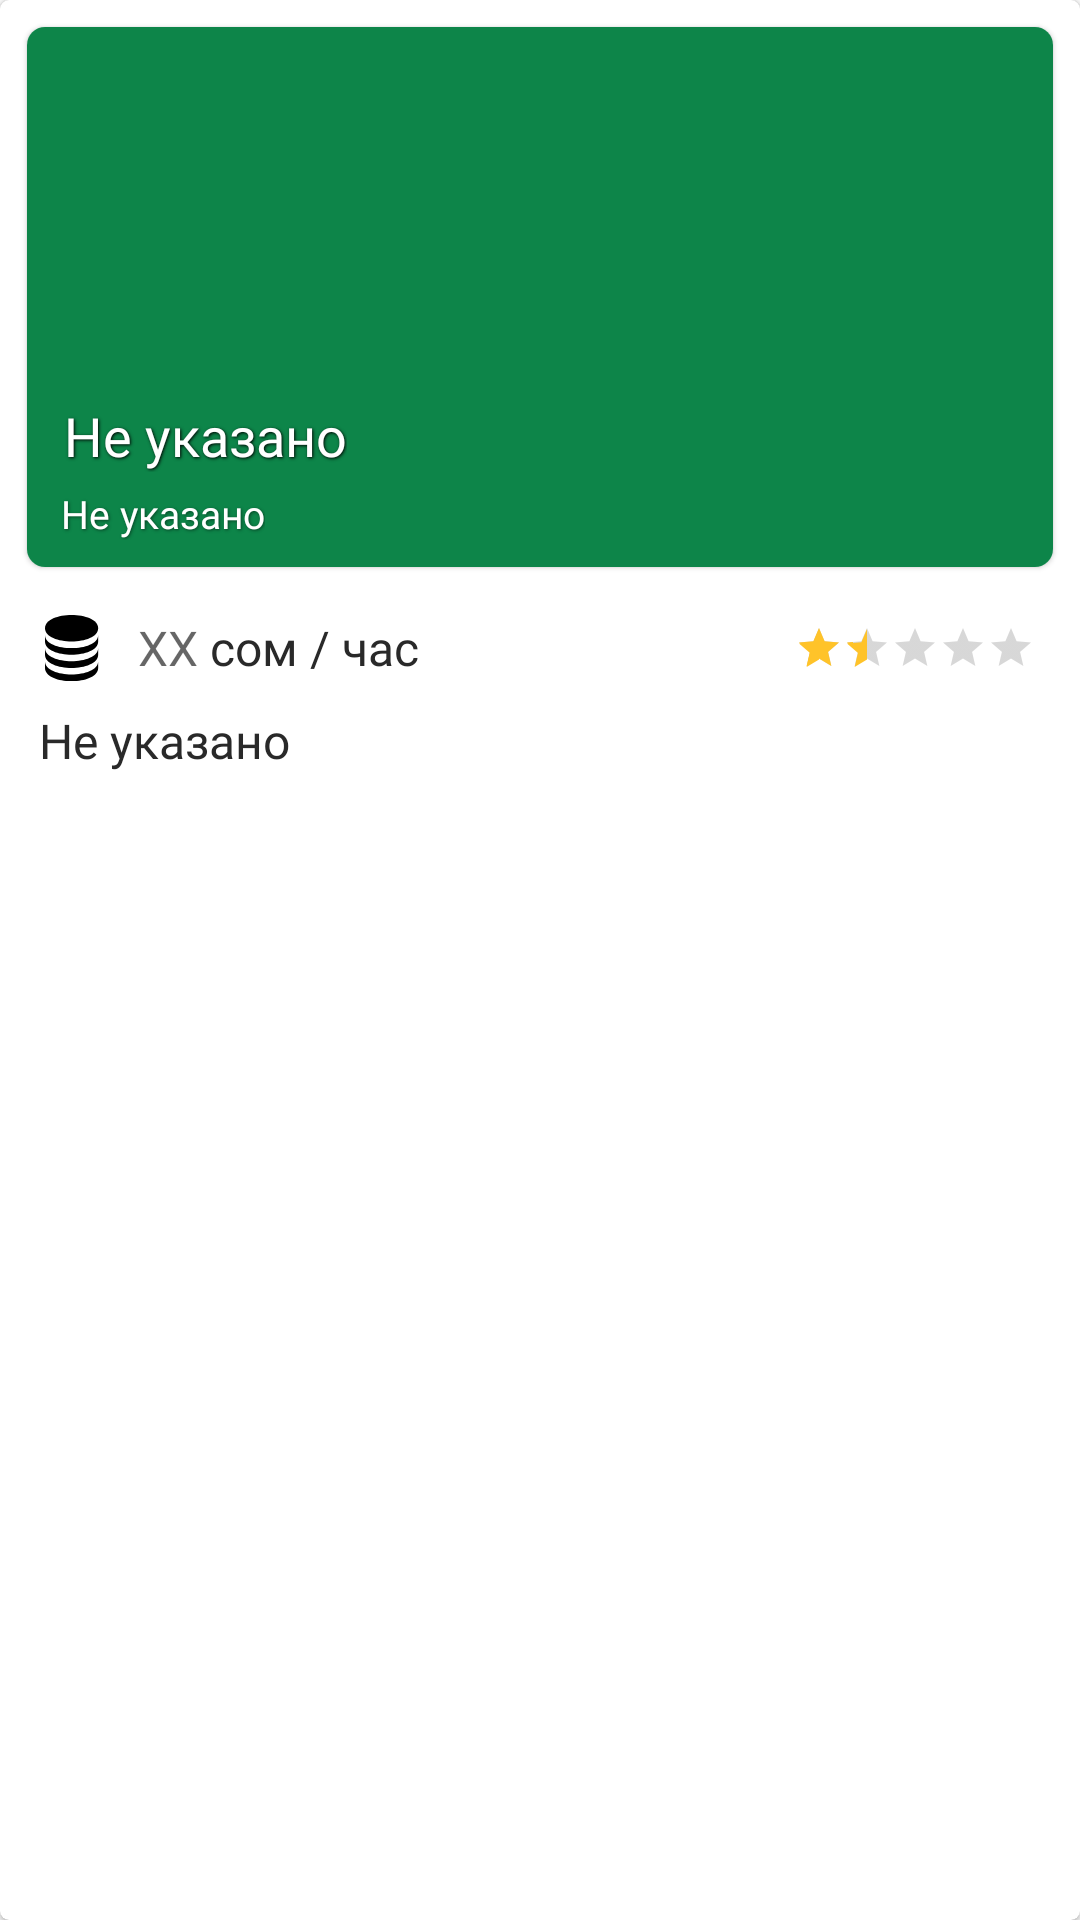

Where to tap for icons on this 1080 x 1920 app screen, as (x=x, y=y):
money: (x=72, y=648)
